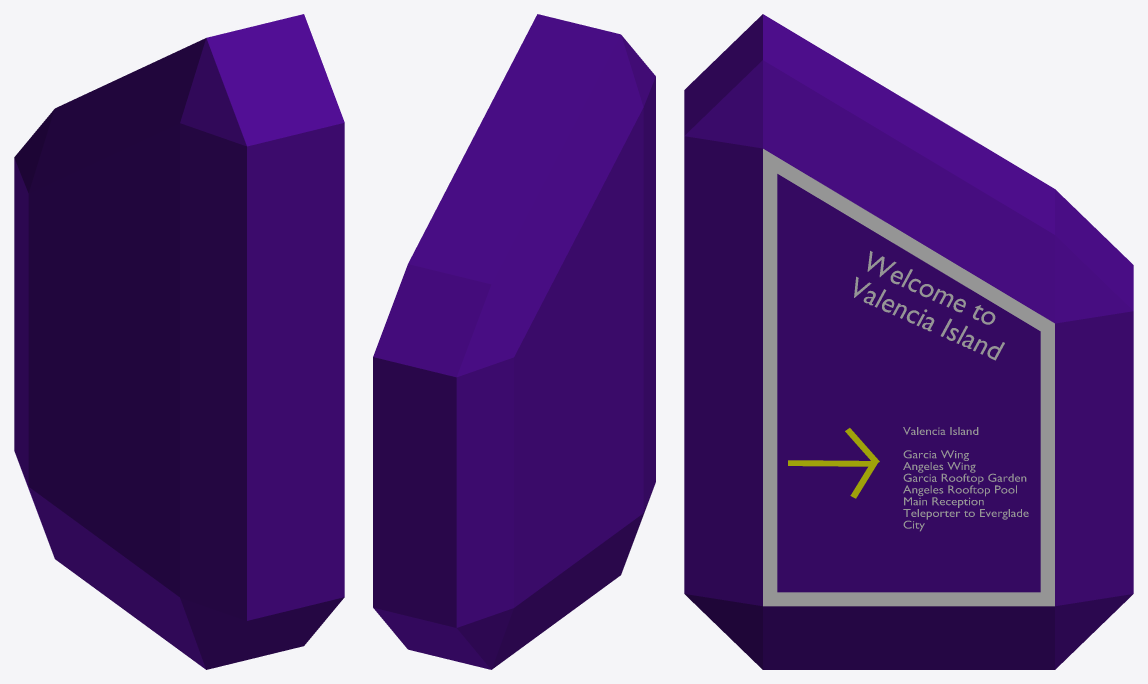
File: valencia_island_sign_3.fbx
3 views of the same model, side by side, from view 1: azimuth 30°, elevation 25°; view 2: azimuth 150°, elevation 25°; view 3: azimuth 270°, elevation 25° (orthographic). The views are drawn at different scales.
Parts seen in each view (by area): view 1: Cube.001; view 2: Cube.001; view 3: Cube.001, Text, Text.002.
Boxes of the visible parts, x1,y1,x2,y2 form: Cube.001: [14, 14, 344, 669]; Cube.001: [373, 14, 655, 669]; Cube.001: [684, 14, 1133, 669]; Text: [903, 427, 1028, 531]; Text.002: [854, 251, 1004, 360].
Size of the model in its own units: 13.17 by 52.06 by 34.77.
